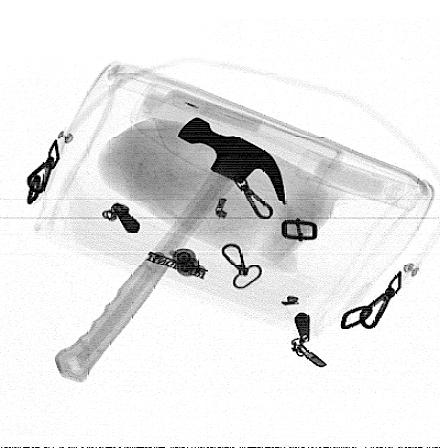Hammer: (54, 116, 286, 384)
